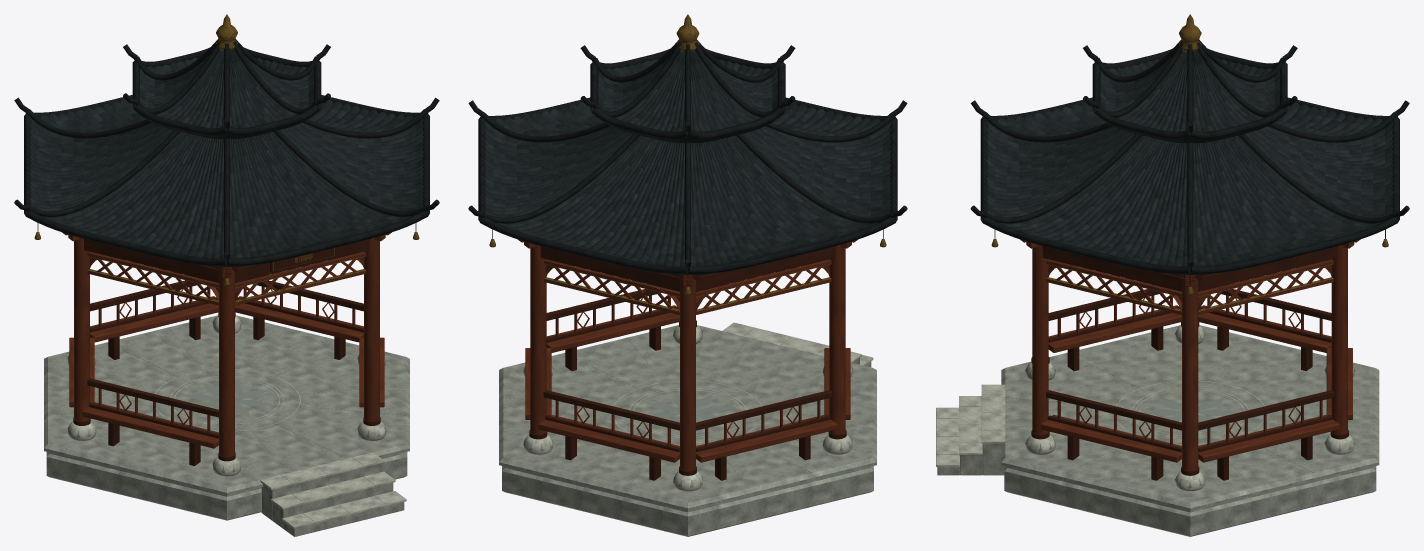
The model's file is pavilion.glb.
The picture shows the model from 3 angles, left to right: view 1: azimuth 30°, elevation 25°; view 2: azimuth 150°, elevation 25°; view 3: azimuth 270°, elevation 25°; orthographic projection. The views are drawn at different scales.
Parts seen in each view (by area): view 1: pavilion_granite_platform, pavilion_pavilion_timber, pavilion_roof_ridges, pavilion_clay_tile_2, pavilion_clay_tile_3, pavilion_clay_tile_1, pavilion_clay_tile_0, pavilion_dark_joinery, pavilion_dressed_stone, pavilion_aged_bronze, pavilion_stone_joints; view 2: pavilion_granite_platform, pavilion_pavilion_timber, pavilion_roof_ridges, pavilion_clay_tile_2, pavilion_clay_tile_1, pavilion_clay_tile_0, pavilion_clay_tile_3, pavilion_dark_joinery, pavilion_dressed_stone, pavilion_aged_bronze, pavilion_stone_joints; view 3: pavilion_granite_platform, pavilion_pavilion_timber, pavilion_roof_ridges, pavilion_clay_tile_0, pavilion_clay_tile_3, pavilion_clay_tile_1, pavilion_clay_tile_2, pavilion_dark_joinery, pavilion_dressed_stone, pavilion_aged_bronze, pavilion_stone_joints.
Part boxes in pixels (box(x1,y1,x2,y2)): pavilion_granite_platform: box(44, 315, 409, 536); pavilion_pavilion_timber: box(62, 232, 391, 461); pavilion_roof_ridges: box(14, 39, 439, 266); pavilion_clay_tile_2: box(27, 50, 426, 258); pavilion_clay_tile_3: box(27, 49, 426, 258); pavilion_clay_tile_1: box(27, 49, 426, 260); pavilion_clay_tile_0: box(27, 50, 426, 258); pavilion_dark_joinery: box(37, 132, 416, 465); pavilion_dressed_stone: box(68, 315, 406, 528); pavilion_aged_bronze: box(34, 14, 419, 302); pavilion_stone_joints: box(48, 327, 405, 521); pavilion_granite_platform: box(499, 325, 876, 536); pavilion_pavilion_timber: box(518, 239, 857, 475); pavilion_roof_ridges: box(468, 40, 907, 275); pavilion_clay_tile_2: box(482, 51, 893, 266); pavilion_clay_tile_1: box(482, 50, 893, 268); pavilion_clay_tile_0: box(482, 51, 893, 266); pavilion_clay_tile_3: box(482, 50, 893, 266); pavilion_dark_joinery: box(492, 152, 883, 480); pavilion_dressed_stone: box(523, 322, 873, 491); pavilion_aged_bronze: box(489, 14, 886, 311); pavilion_stone_joints: box(503, 328, 872, 487); pavilion_granite_platform: box(937, 325, 1379, 536); pavilion_pavilion_timber: box(1020, 239, 1360, 475); pavilion_roof_ridges: box(970, 39, 1409, 274); pavilion_clay_tile_0: box(984, 51, 1395, 266); pavilion_clay_tile_3: box(984, 50, 1395, 266); pavilion_clay_tile_1: box(984, 50, 1395, 269); pavilion_clay_tile_2: box(984, 52, 1395, 266); pavilion_dark_joinery: box(994, 152, 1385, 480); pavilion_dressed_stone: box(936, 325, 1354, 491); pavilion_aged_bronze: box(991, 14, 1388, 311); pavilion_stone_joints: box(937, 337, 1374, 487).
Bounding box in the file's own units: 7.12 × 6.73 × 6.66.
Materials: 12 (10 with a texture image).
